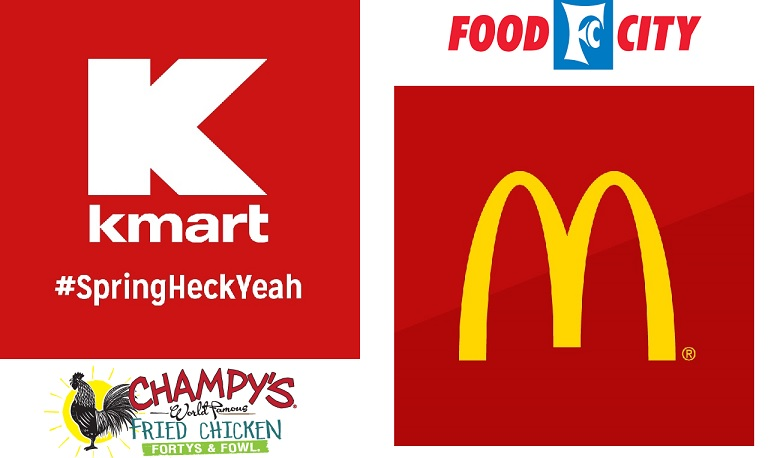mcdonalds: (453, 168, 674, 361)
